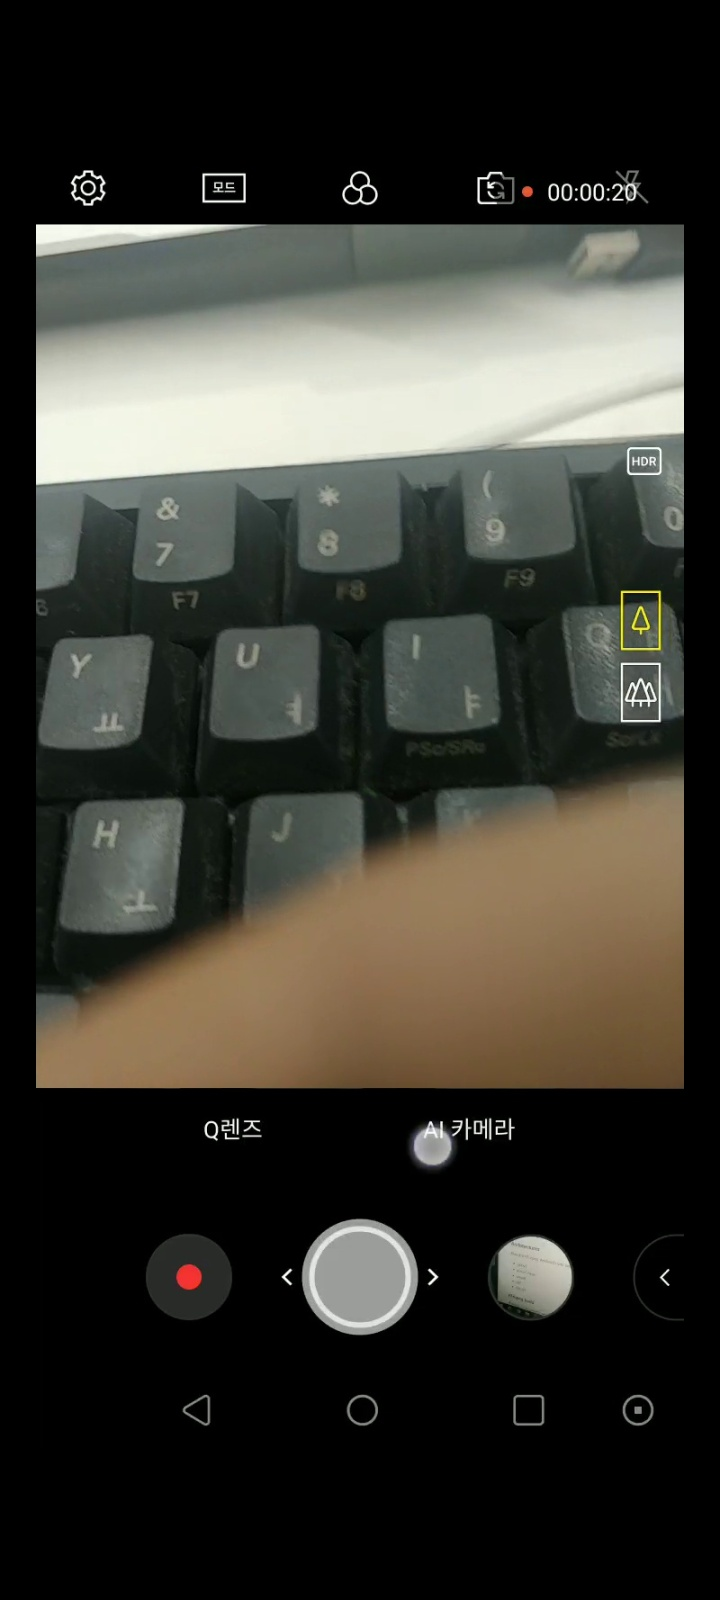Cursor: (410, 1124, 455, 1170)
